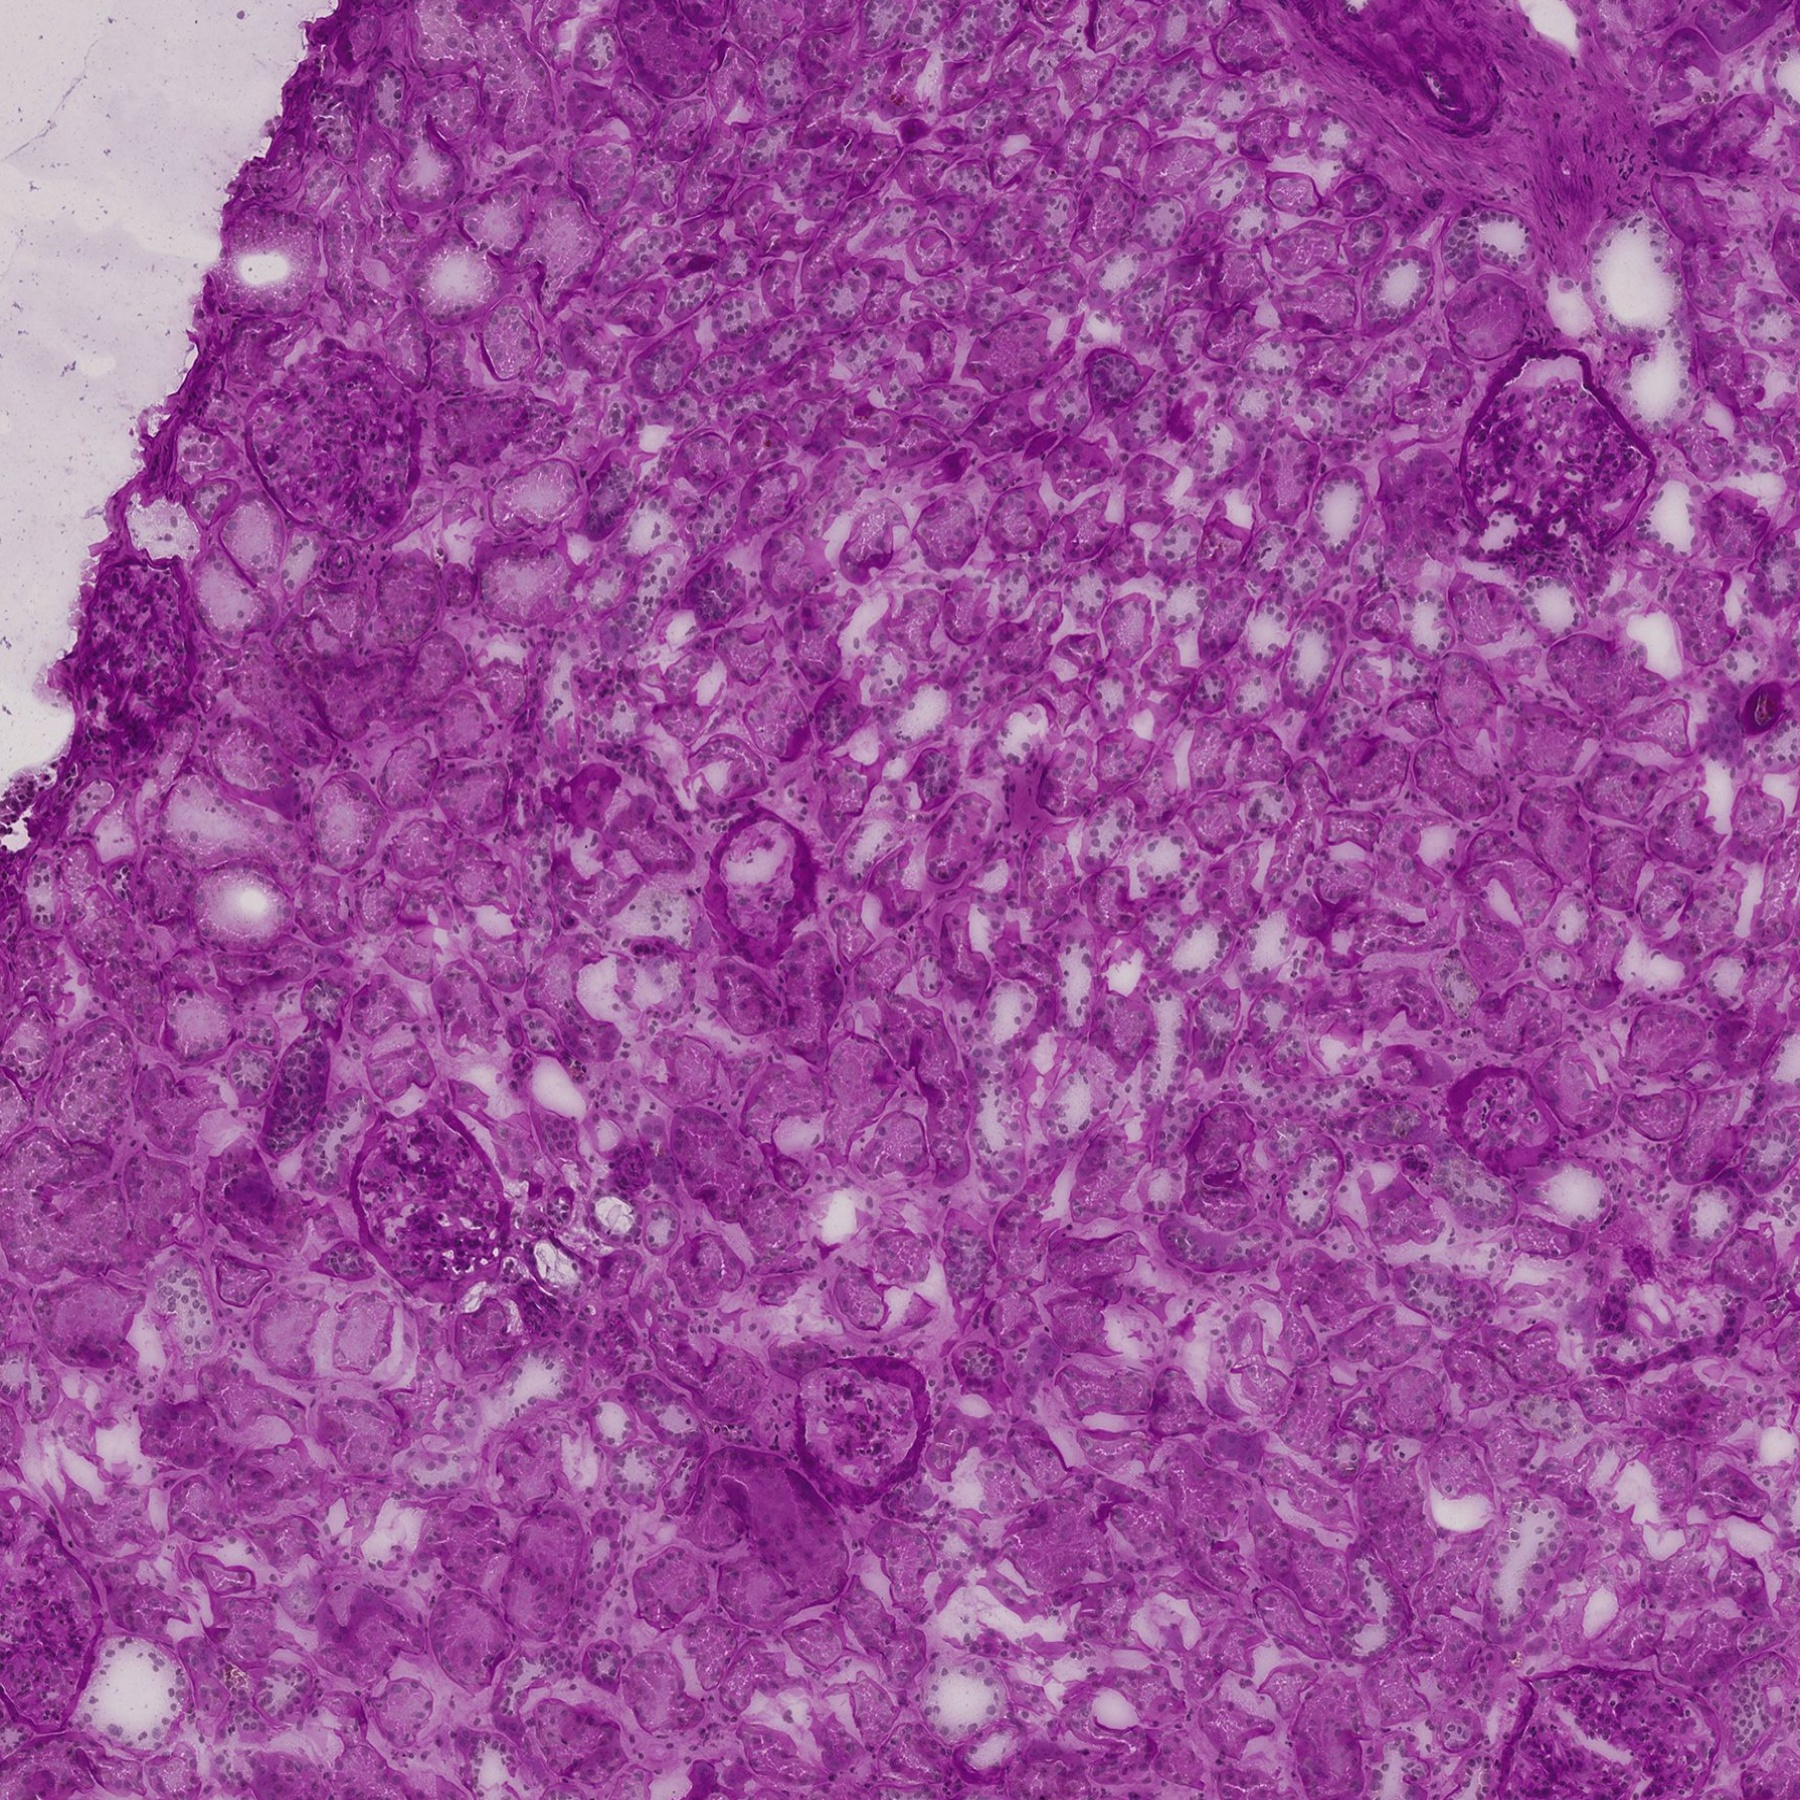Glomeruli: (1462, 346, 1658, 569), (242, 348, 424, 544), (354, 1101, 518, 1314), (64, 551, 213, 763), (1507, 1662, 1729, 1800), (790, 1358, 936, 1500)
